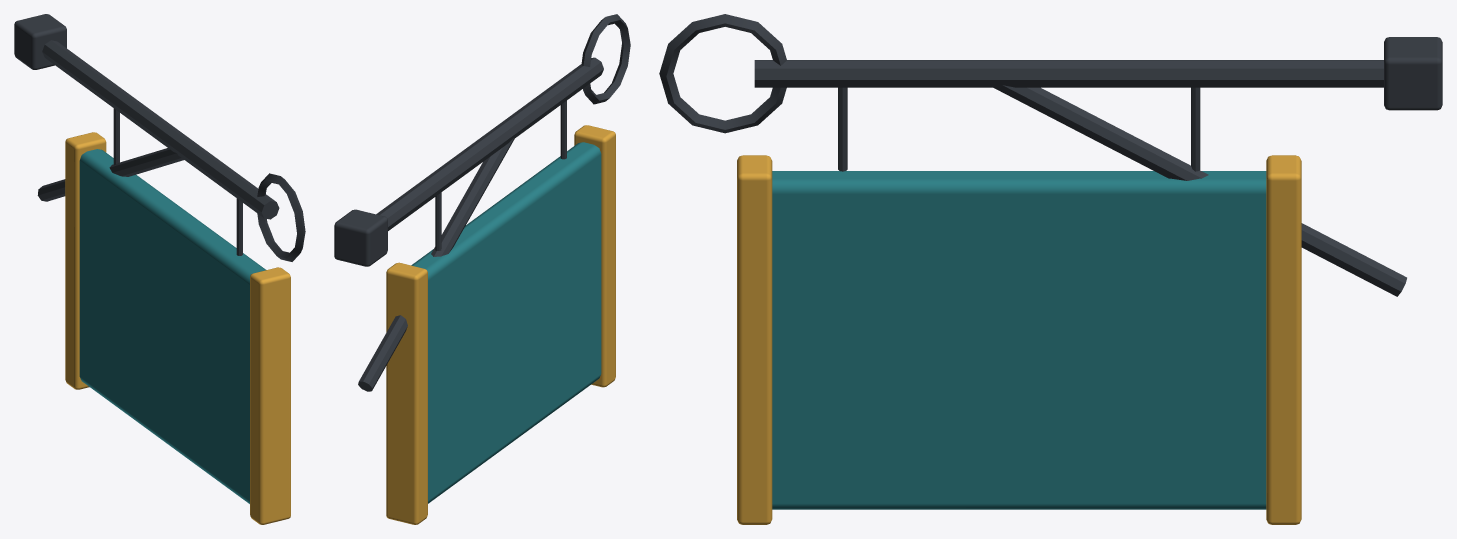
File: mk_sign_teal.glb
3 renders of one model, left to right at view 1: azimuth 30°, elevation 25°; view 2: azimuth 150°, elevation 25°; view 3: azimuth 270°, elevation 25°, orthographic. The views are drawn at different scales.
Parts seen in each view (by area): view 1: mk_sign_teal_body; view 2: mk_sign_teal_body; view 3: mk_sign_teal_body.
Boxes of the visible parts, left/top/right/bottom form: mk_sign_teal_body: left=14, top=14, right=305, bottom=524; mk_sign_teal_body: left=334, top=14, right=630, bottom=524; mk_sign_teal_body: left=659, top=14, right=1442, bottom=524.
Bounding box in the file's own units: 0.1 × 0.942 × 1.33.
